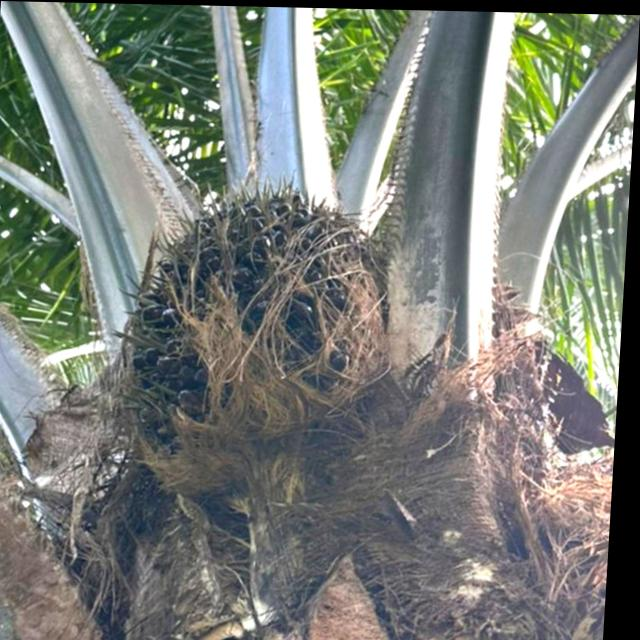almost: (122, 170, 409, 490)
